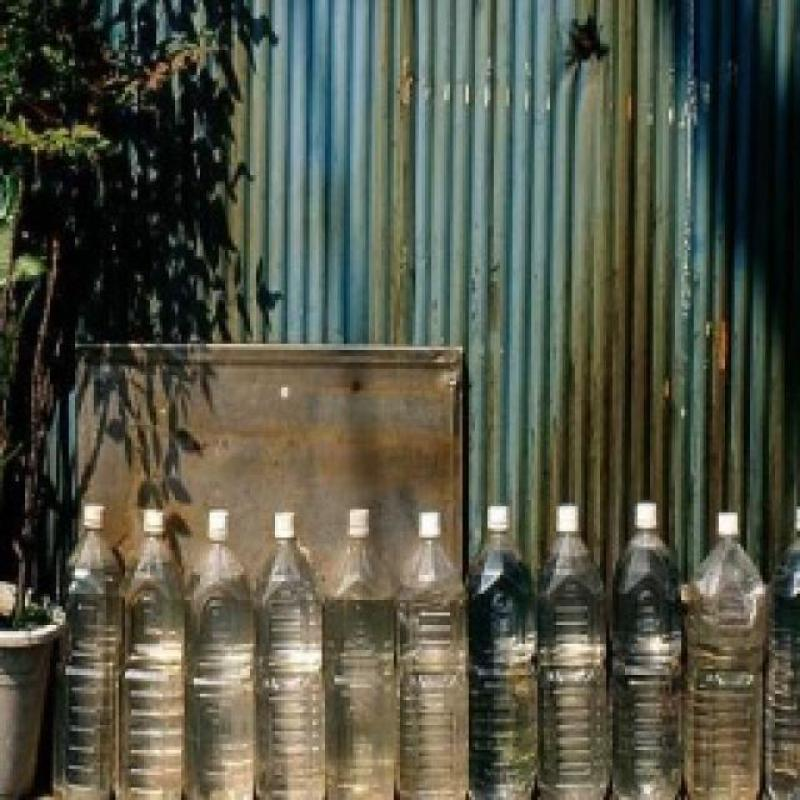botella: (684, 512, 768, 800), (536, 502, 612, 800), (611, 500, 683, 800), (465, 502, 537, 800), (185, 509, 257, 800), (395, 512, 467, 800), (326, 506, 396, 800), (258, 509, 326, 800), (60, 502, 126, 800), (121, 509, 184, 800), (765, 506, 800, 800)
